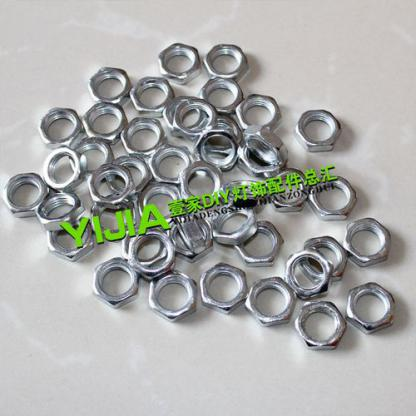FOD: (343, 280, 397, 336), (281, 246, 333, 301), (199, 259, 247, 318), (303, 172, 360, 221), (343, 214, 394, 268), (245, 274, 296, 325), (294, 300, 345, 351), (86, 256, 136, 308), (145, 272, 198, 320), (293, 106, 344, 154), (236, 220, 286, 268), (126, 230, 179, 275), (78, 100, 128, 146), (85, 161, 135, 207), (1, 172, 46, 221), (202, 41, 252, 83), (244, 124, 290, 168), (209, 204, 257, 246), (40, 148, 84, 193), (179, 163, 225, 206), (33, 192, 85, 230), (37, 103, 81, 147), (157, 41, 202, 83), (120, 115, 166, 155), (87, 63, 130, 105), (129, 76, 175, 115), (197, 74, 242, 113), (236, 93, 282, 131), (148, 143, 194, 181), (173, 97, 216, 136)
